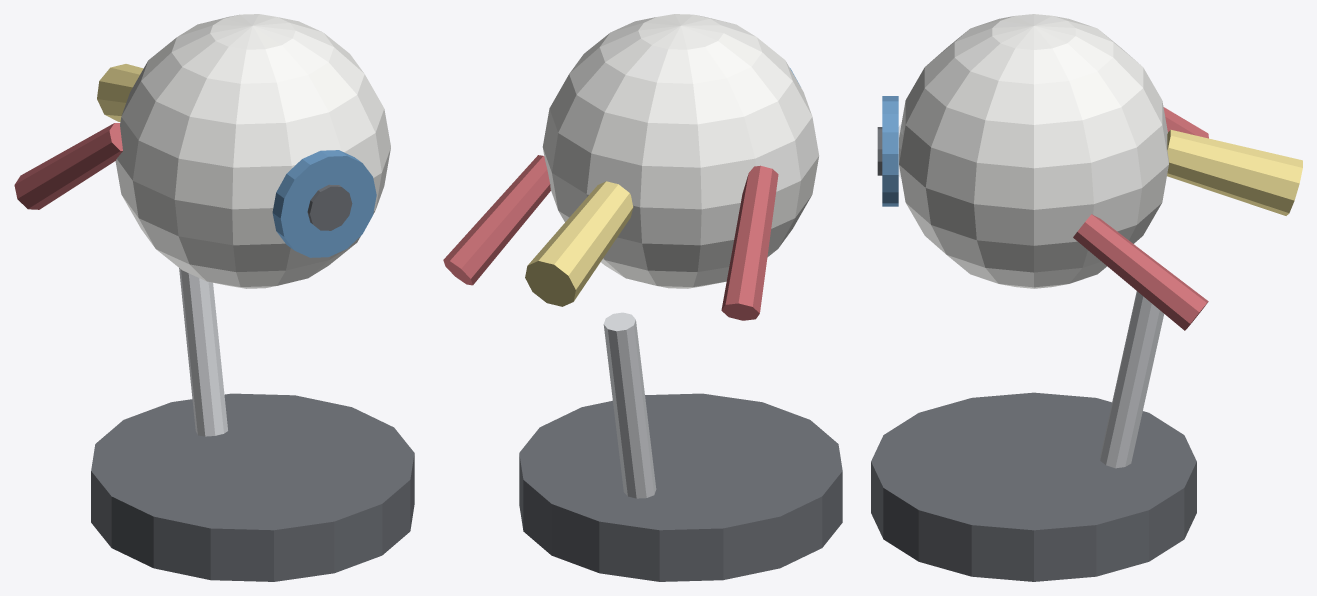
Rendered from human-anatomy-and-education-kit-eye-model-8ef1965f__38956.glb.
3 views of the same model, side by side, from view 1: azimuth 30°, elevation 25°; view 2: azimuth 150°, elevation 25°; view 3: azimuth 270°, elevation 25° (orthographic).
Parts seen in each view (by area): view 1: eye-model; view 2: eye-model; view 3: eye-model.
Part boxes in pixels (left/top/right/bottom): eye-model: left=14, top=14, right=414, bottom=581; eye-model: left=443, top=14, right=842, bottom=581; eye-model: left=871, top=14, right=1302, bottom=581.
Size of the model in its own units: 0.2226 by 0.33 by 0.2651.
